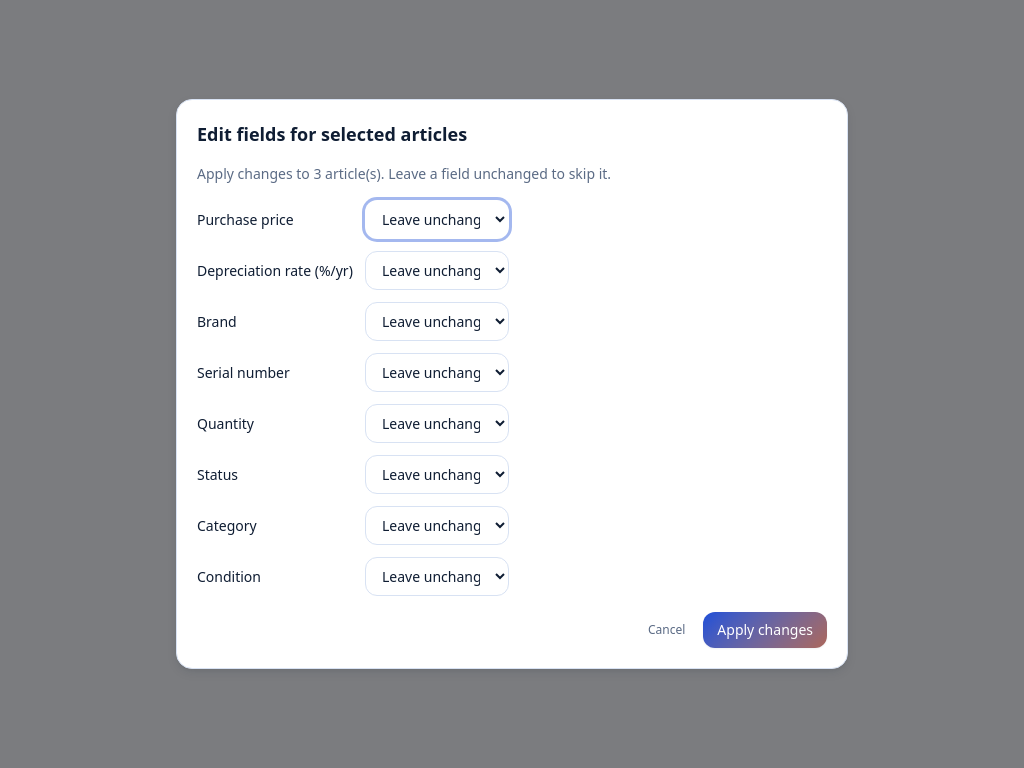
Test: <BulkEditDialog /> › rejects a fractional quantity before hitting the API
The width and height of the screenshot is (1024, 768).
Step 1. Select "Set to…" in the dropdown named "Quantity operation" → (437, 424), box [365,404,509,443]
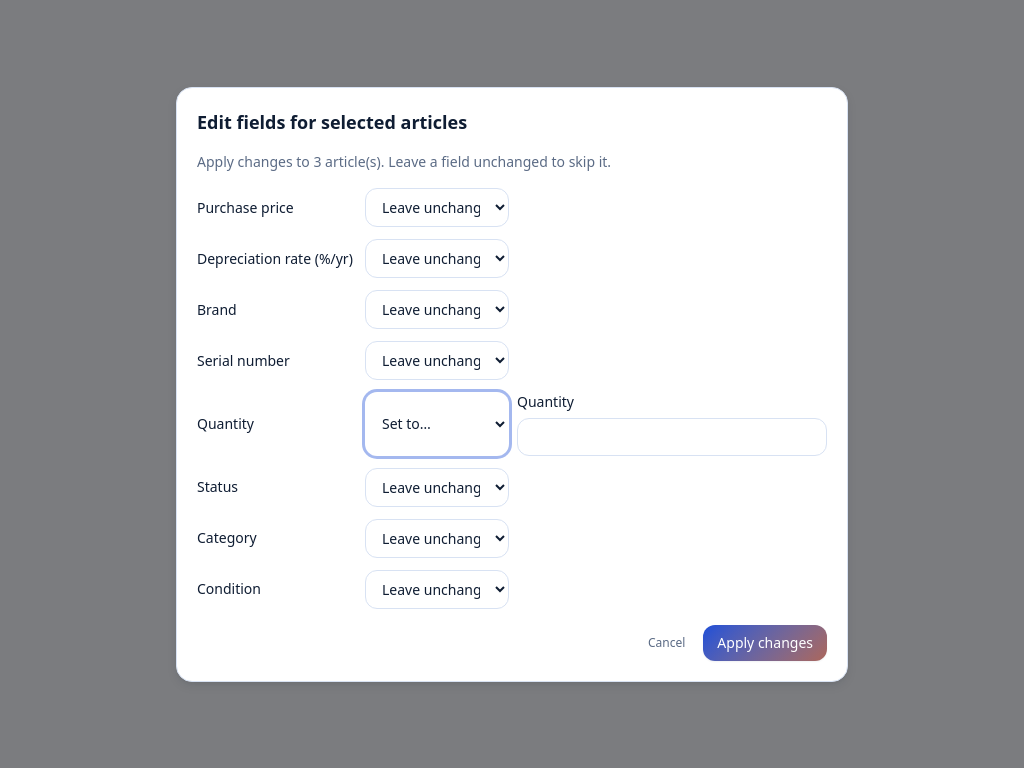
Step 2. Type "2.5" into the number field labelled "Quantity" → (672, 436), box [517,418,827,456]
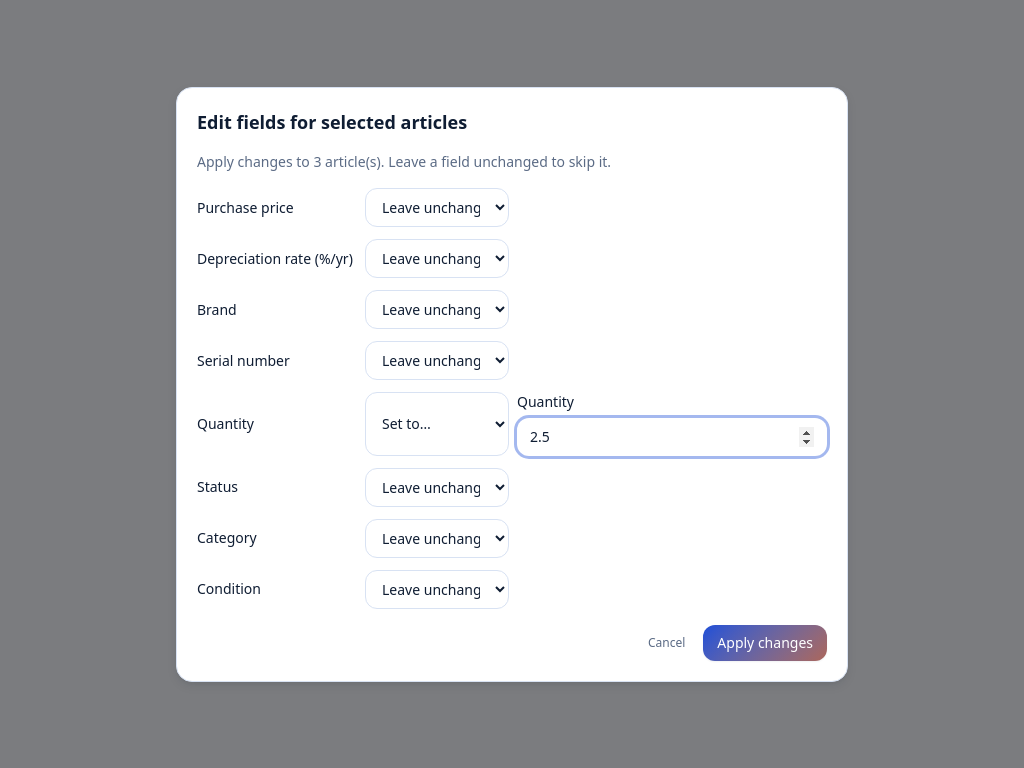
Step 3. Click the button "Apply changes" → (765, 642), box [703,624,827,660]
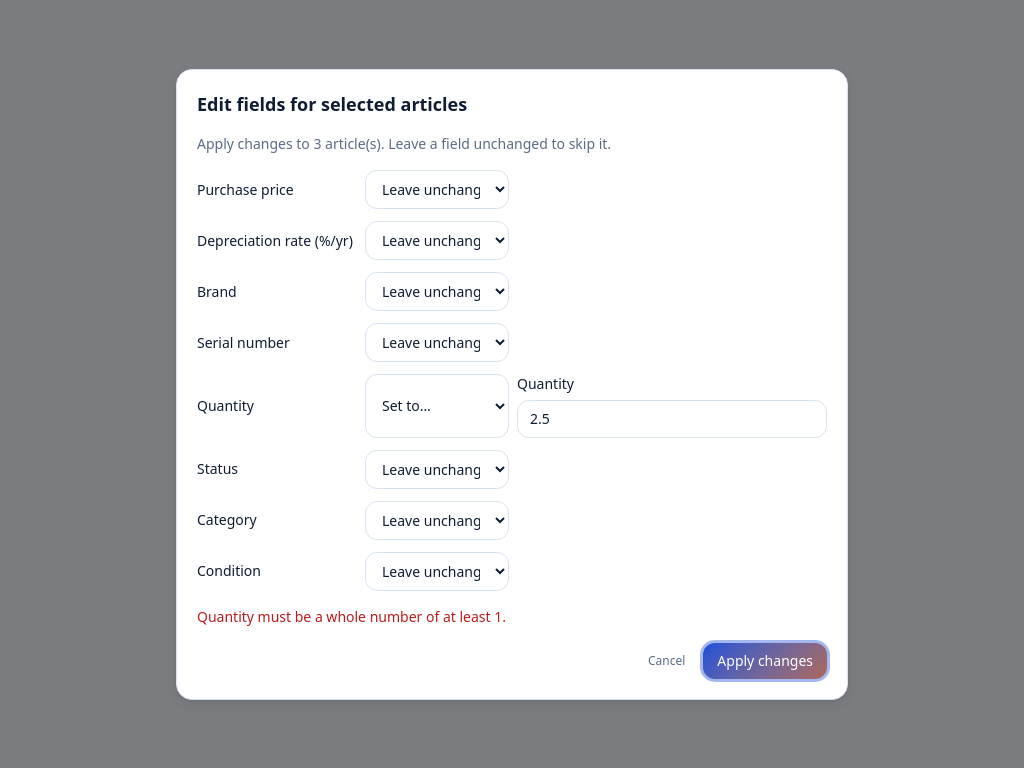
Result: the message "Quantity must be a whole number of at least 1." is shown at [197,606,506,626]
